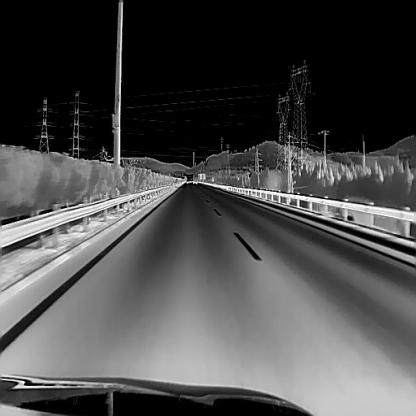truck: (192, 173, 198, 183)
